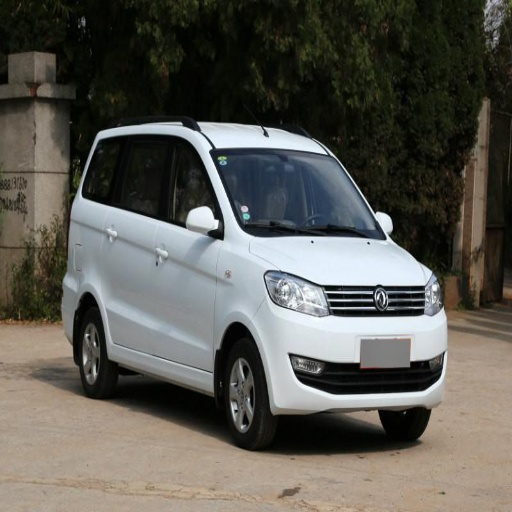front_bumper: (256, 284, 449, 411)
front_right_door: (148, 135, 224, 373)
front_right_light: (266, 270, 330, 316)
hood: (251, 236, 429, 286)
